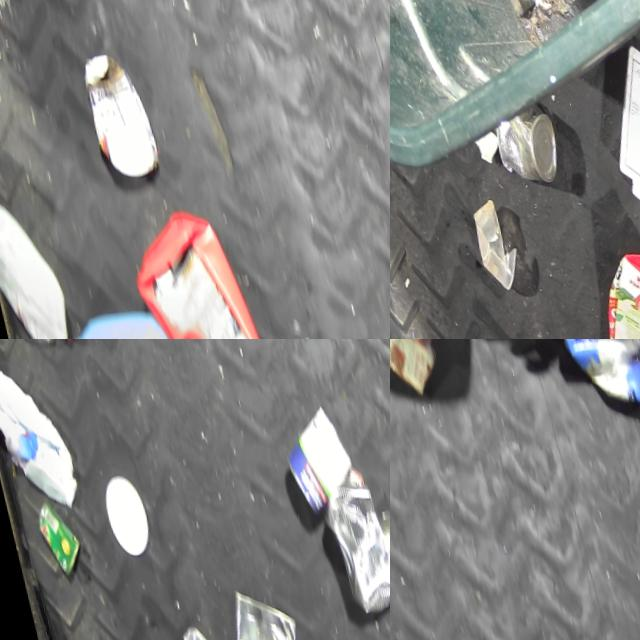can: (76, 35, 166, 194), (269, 387, 362, 531), (312, 462, 390, 618), (482, 98, 559, 186), (210, 579, 310, 640), (25, 493, 84, 589)
milk_jug: (0, 345, 84, 525), (0, 193, 74, 339)
non_white_jug: (107, 185, 279, 339), (569, 230, 640, 339)
